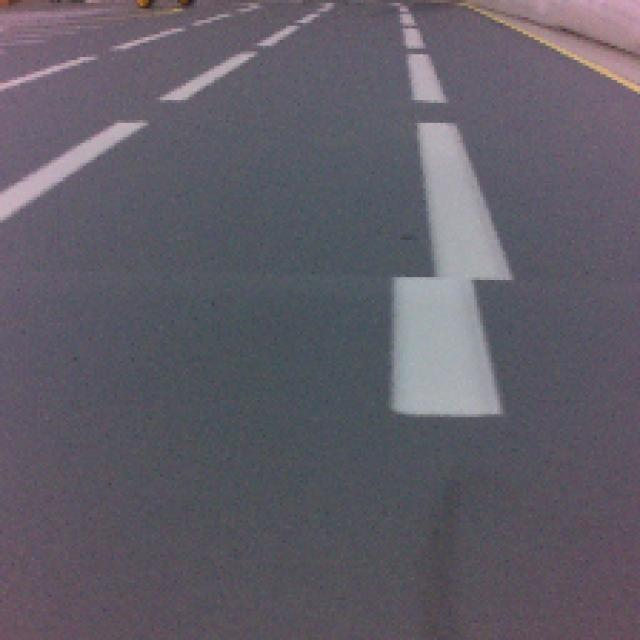Road: (0, 485, 640, 640)
